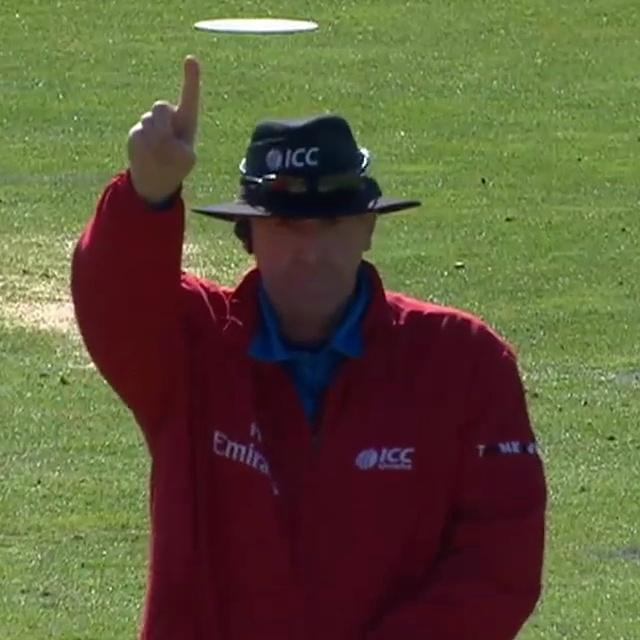umpire: (26, 49, 583, 640)
